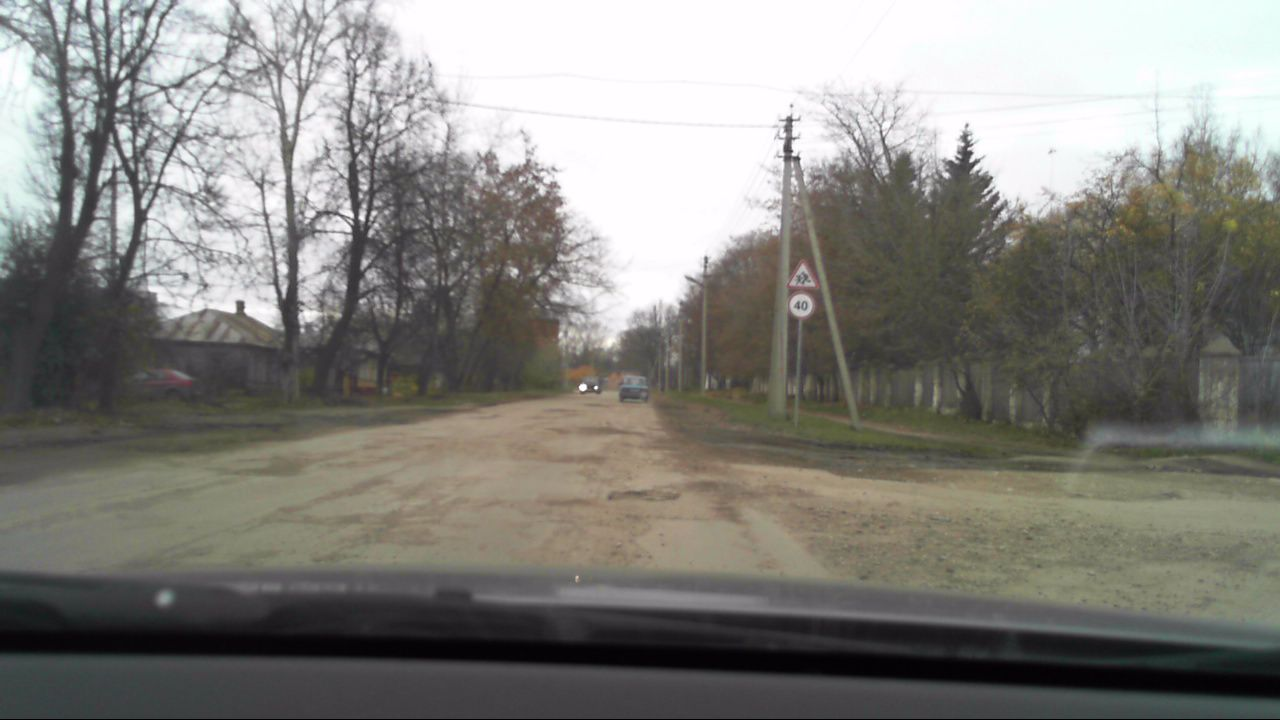speed_warning_40: (786, 292, 815, 319)
